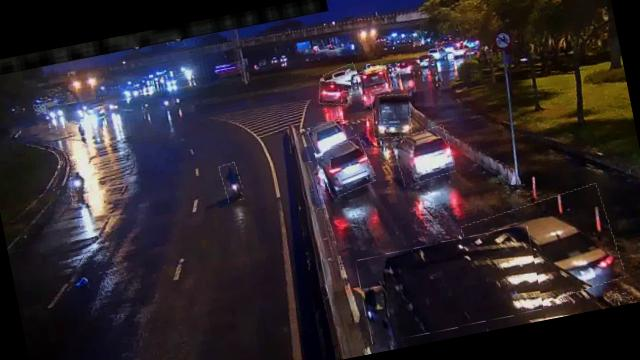Bike: (219, 162, 244, 202), (68, 170, 90, 206)
Bus: (356, 62, 404, 102)
Car: (462, 185, 626, 316), (392, 124, 456, 184), (316, 136, 376, 198), (307, 118, 348, 152), (317, 77, 354, 108), (322, 63, 359, 88)
Truck: (354, 224, 544, 344), (368, 89, 416, 140)
